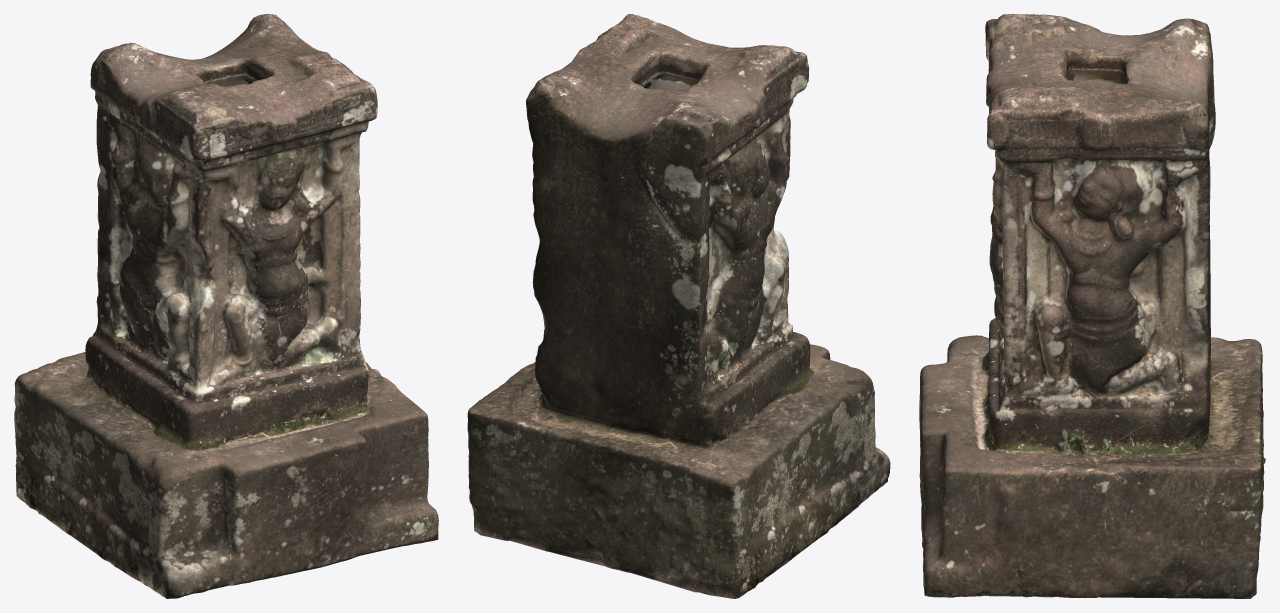
The model's file is 24_MysonSanctuaryD_Nguoidotru_final.glb.
3 views of the same model, side by side, from view 1: azimuth 30°, elevation 25°; view 2: azimuth 150°, elevation 25°; view 3: azimuth 270°, elevation 25° (orthographic). The views are drawn at different scales.
Bounding box in the file's own units: 0.6561 × 1.02 × 0.6624.
1 material, 1 textured.
